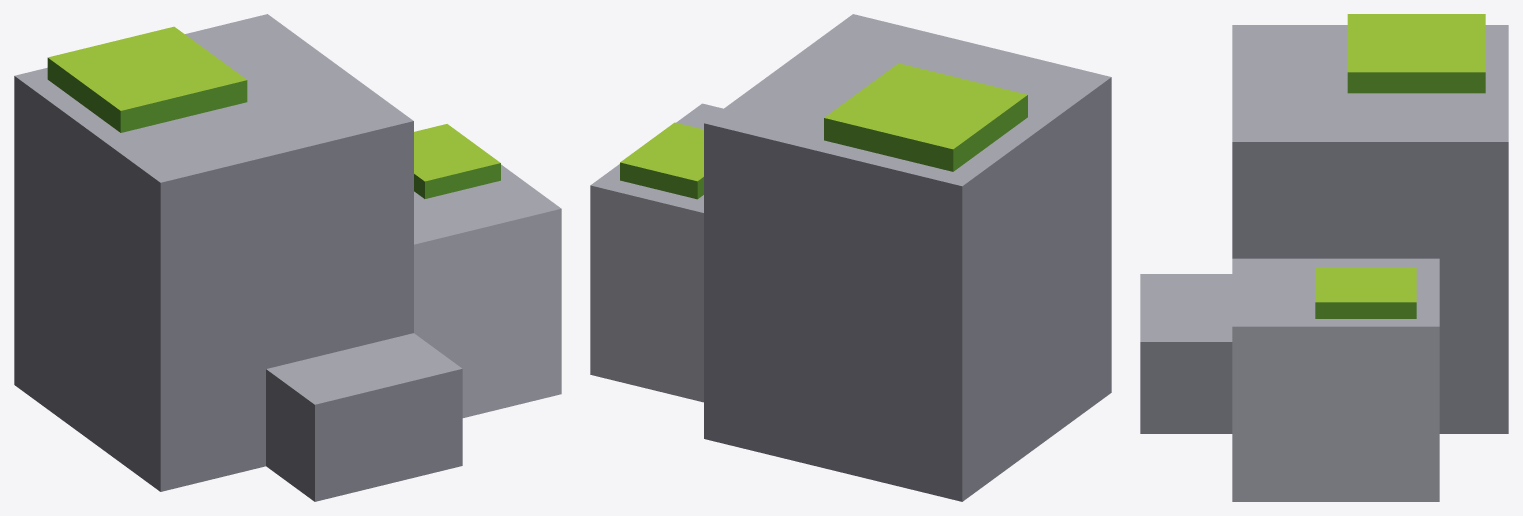
The model's file is Lobby_Rock.glb.
3 views of the same model, side by side, from view 1: azimuth 30°, elevation 25°; view 2: azimuth 150°, elevation 25°; view 3: azimuth 270°, elevation 25° (orthographic). The views are drawn at different scales.
Parts seen in each view (by area): view 1: Rock_stoneMid, Rock_stoneLight, Rock_mossLime, Rock_moss; view 2: Rock_stoneMid, Rock_stoneLight, Rock_mossLime, Rock_moss; view 3: Rock_stoneLight, Rock_stoneMid, Rock_mossLime, Rock_moss.
Part boxes in pixels (x1,y1,x2,y2): Rock_stoneMid: (14, 76, 462, 501); Rock_stoneLight: (14, 14, 561, 417); Rock_mossLime: (48, 26, 500, 181); Rock_moss: (47, 58, 500, 198); Rock_stoneMid: (704, 77, 1111, 501); Rock_stoneLight: (590, 14, 1111, 402); Rock_mossLime: (620, 63, 1027, 181); Rock_moss: (620, 95, 1027, 199); Rock_stoneLight: (1140, 25, 1508, 501); Rock_stoneMid: (1140, 142, 1508, 433); Rock_mossLime: (1315, 14, 1485, 302); Rock_moss: (1315, 72, 1485, 318).
Bounding box in the file's own units: 0.95 × 0.75 × 0.8.
